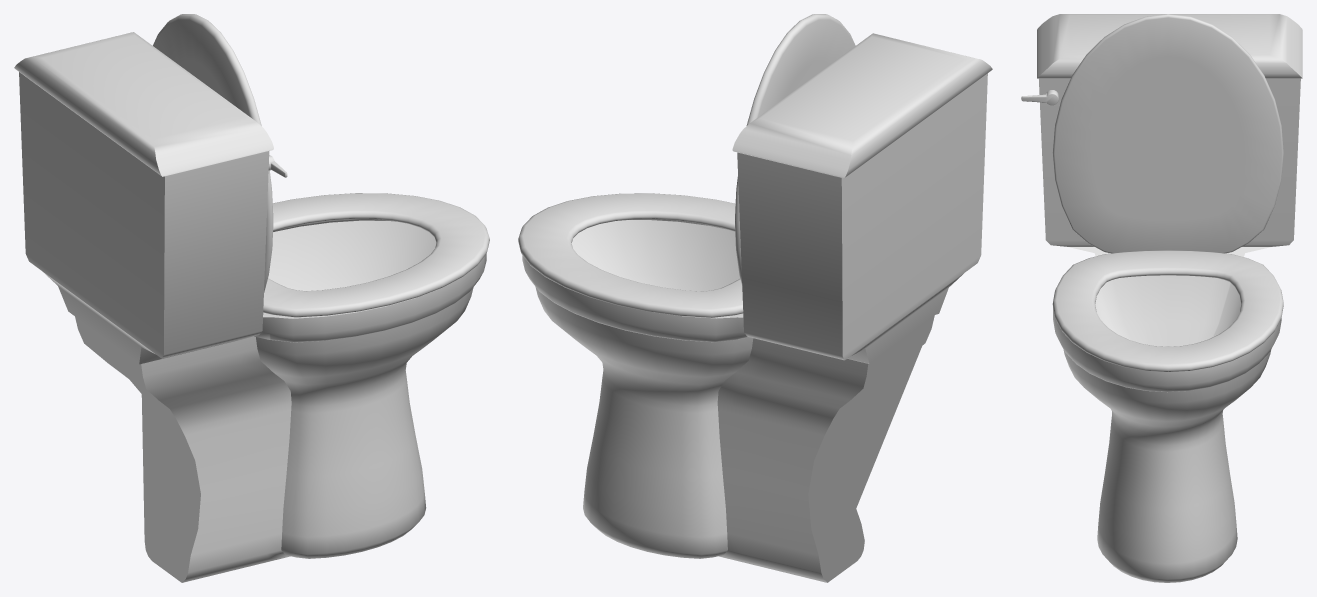
The model's file is Bathroom_And_Misc_1.fbx.
3 renders of one model, left to right at view 1: azimuth 30°, elevation 25°; view 2: azimuth 150°, elevation 25°; view 3: azimuth 270°, elevation 25°, orthographic. The views are drawn at different scales.
Parts seen in each view (by area): view 1: Cylinder.006; view 2: Cylinder.006; view 3: Cylinder.006.
Boxes of the visible parts, x1,y1,x2,y2 form: Cylinder.006: (14, 14, 489, 582); Cylinder.006: (518, 14, 992, 582); Cylinder.006: (1021, 14, 1302, 582).
Size of the model in its own units: 75.33 by 100 by 52.64.
